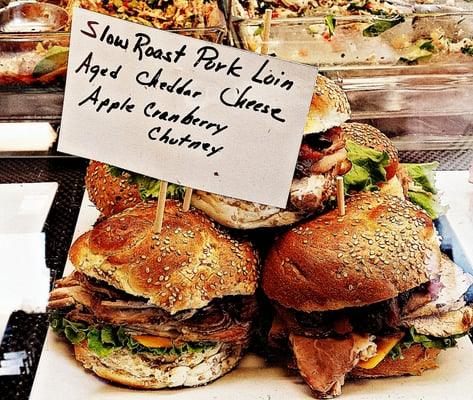soup: (54, 10, 351, 232), (259, 186, 473, 394), (46, 199, 262, 389)
